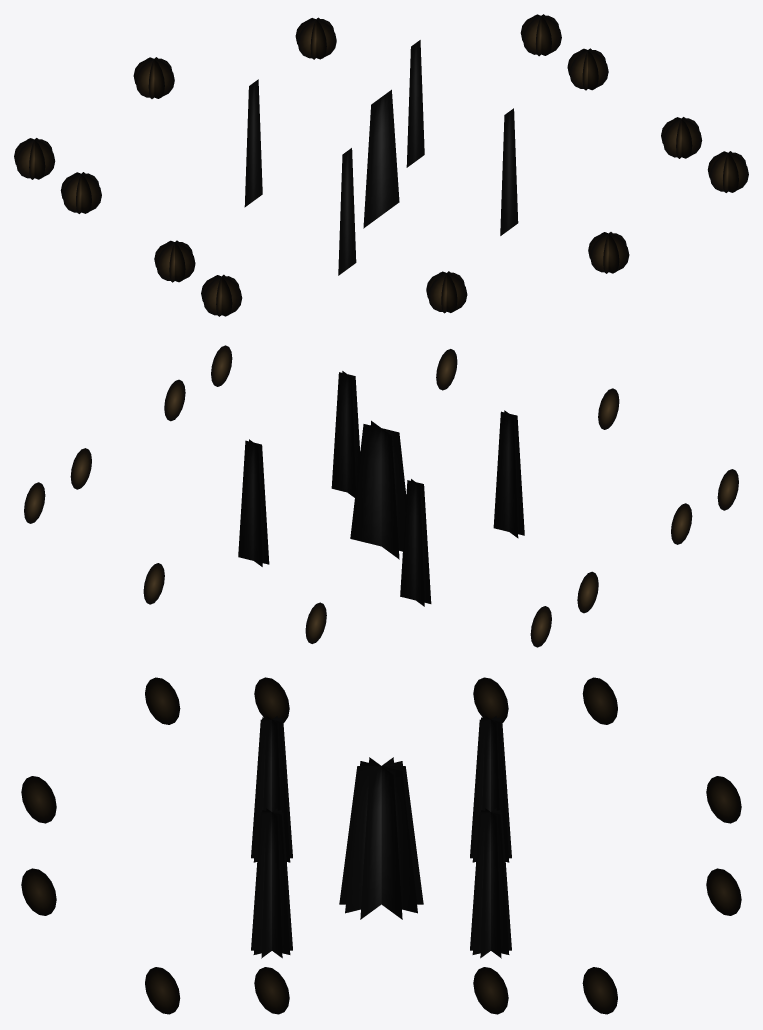
File: cistern_shaft.glb
3 renders of one model, top to bottom at view 1: azimuth 30°, elevation 25°; view 2: azimuth 150°, elevation 25°; view 3: azimuth 270°, elevation 25°, orthographic. The views are drawn at different scales.
Parts seen in each view (by area): view 1: shaft; view 2: shaft; view 3: shaft.
Boxes of the visible parts, left/top/right/bottom form: shaft: left=14, top=14, right=748, bottom=316; shaft: left=24, top=345, right=738, bottom=647; shaft: left=21, top=677, right=741, bottom=1014.
Bounding box in the file's own units: 47 × 9.78 × 47.
